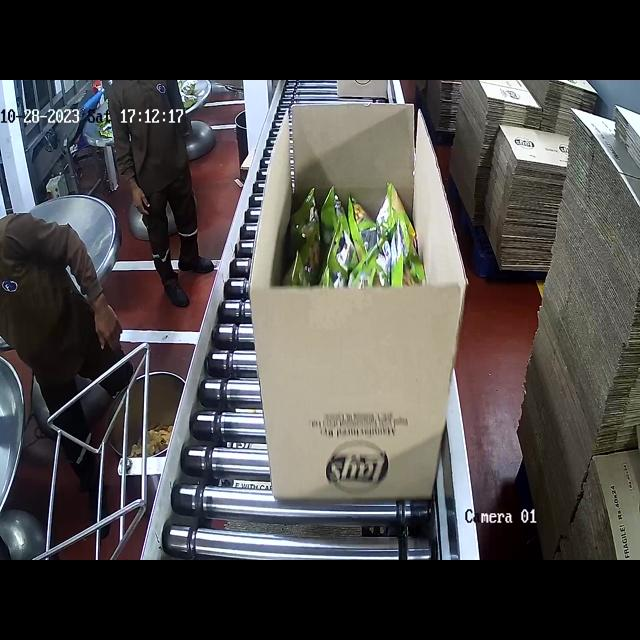yogurt: (294, 171, 417, 293)
